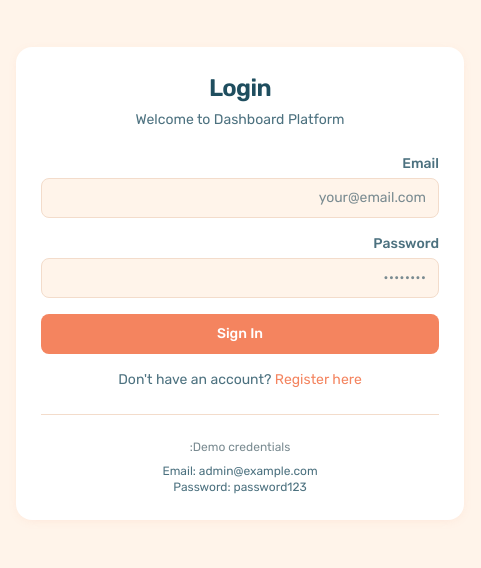
Test: LoginPage › shows an error message when credentials are rejected
The image size is (481, 568).
Step 1. Type "user@example.com" into the field with placeholder "your@email.com" → (240, 198), box [41,178,439,218]
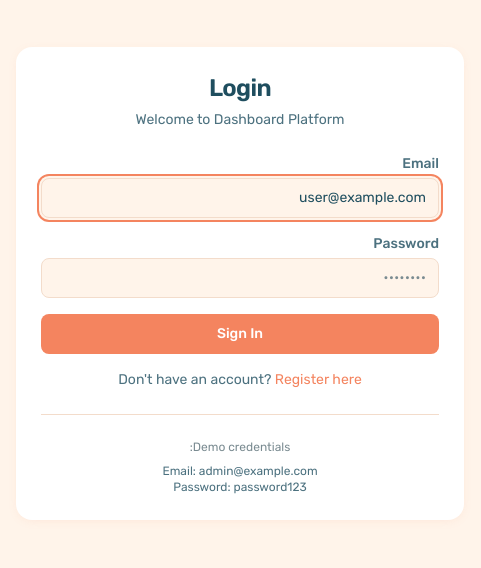
Step 2. Type "wrongpassword" into the password field with placeholder "••••••••" → (240, 278), box [41,258,439,298]
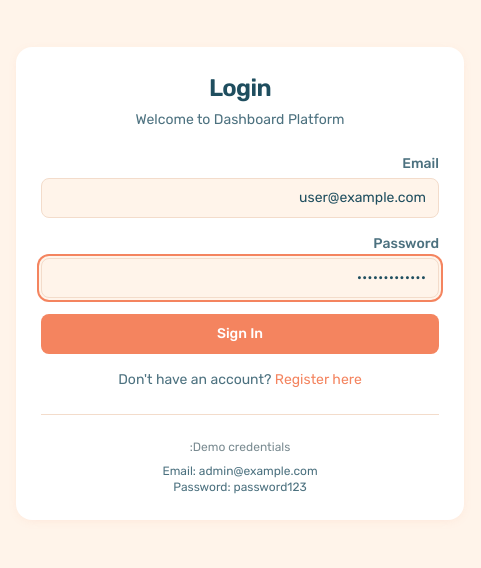
Step 3. Click the button "Sign In" → click(240, 334), box [41,314,439,354]
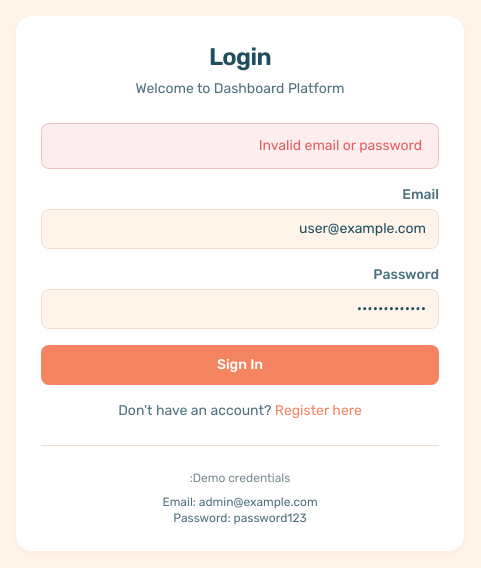
Now the text "Invalid email or password" is shown, box [41,122,439,168]
